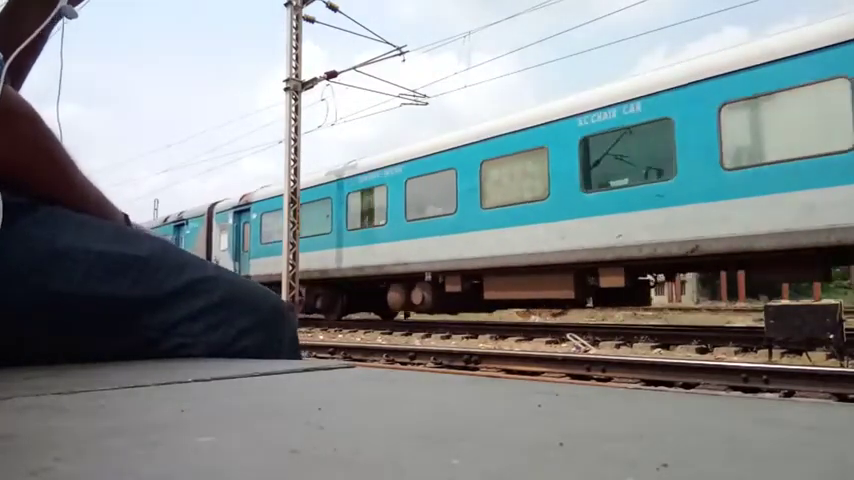Car Type: (568, 97, 647, 127)
